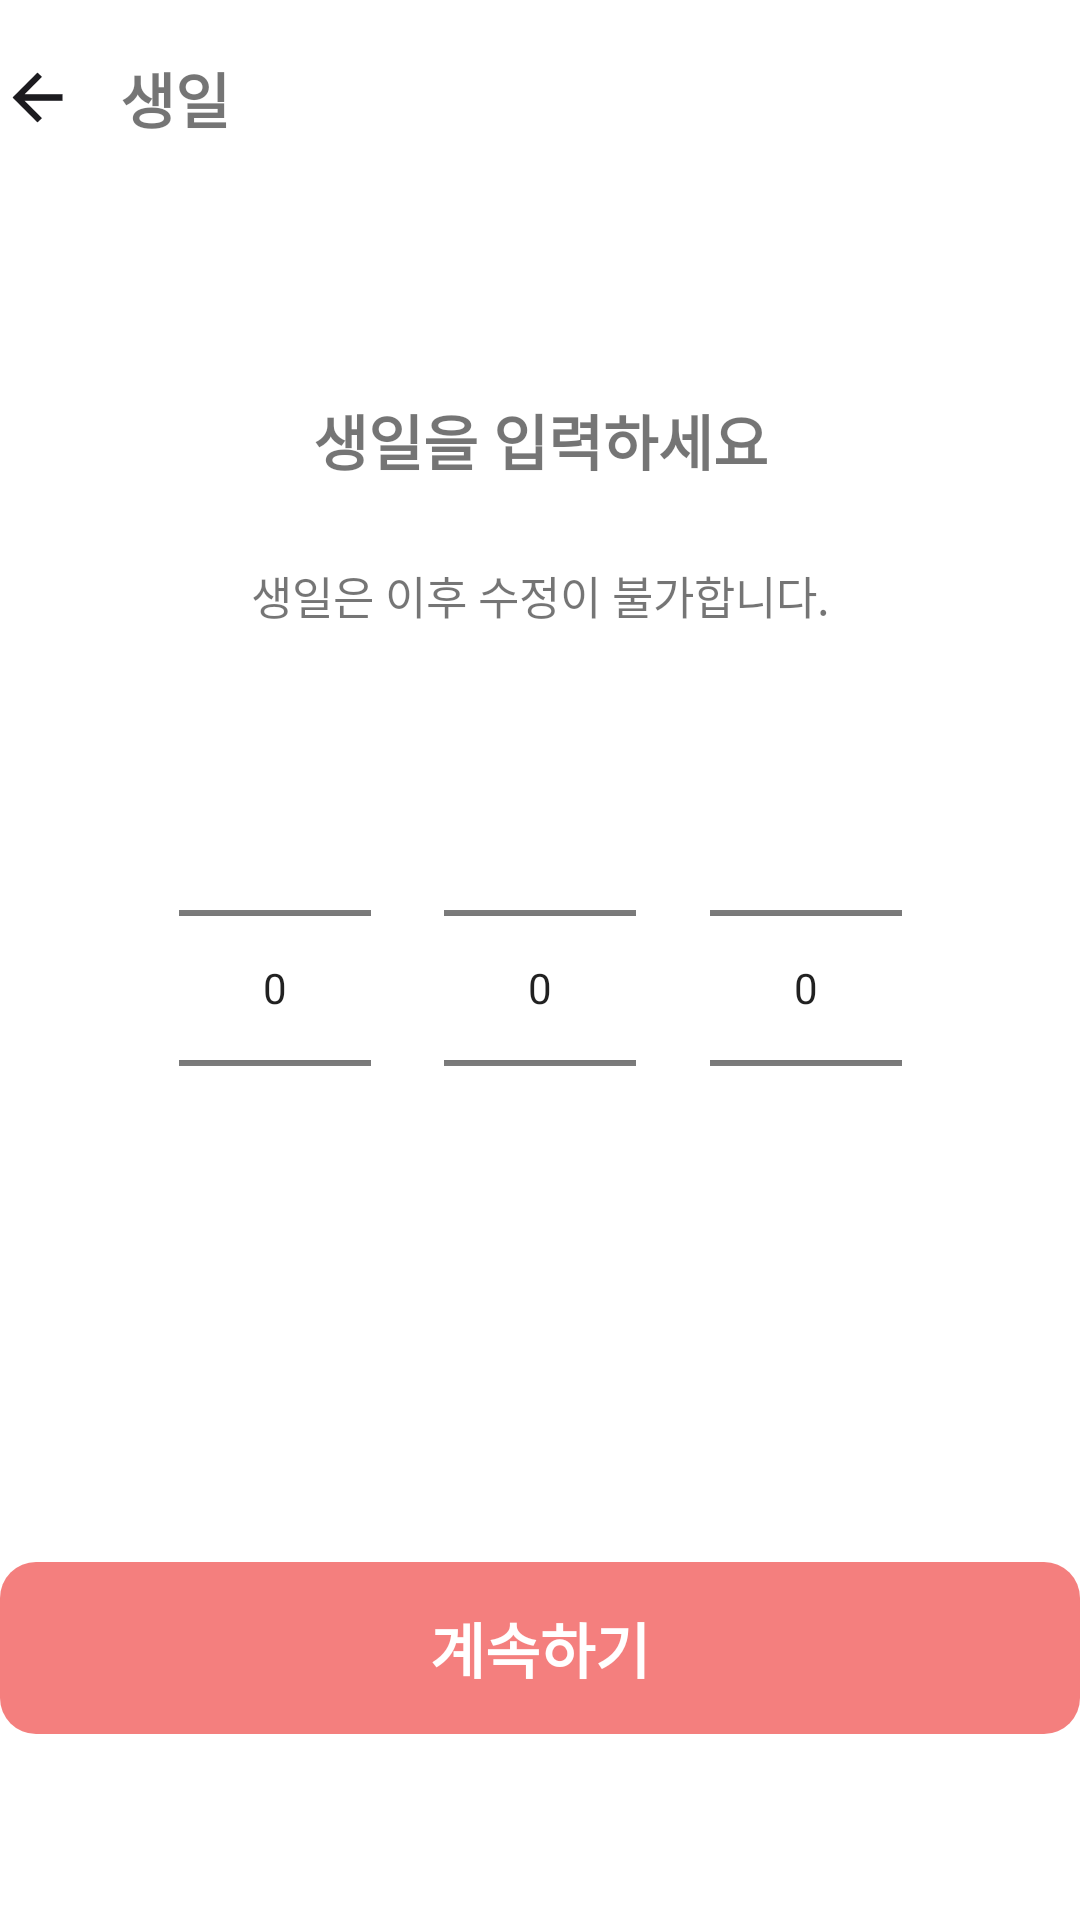

Where icons sit on this 1080×1920 app screen, as (x1, y1, x2, y2):
back: (12, 72, 63, 123)
